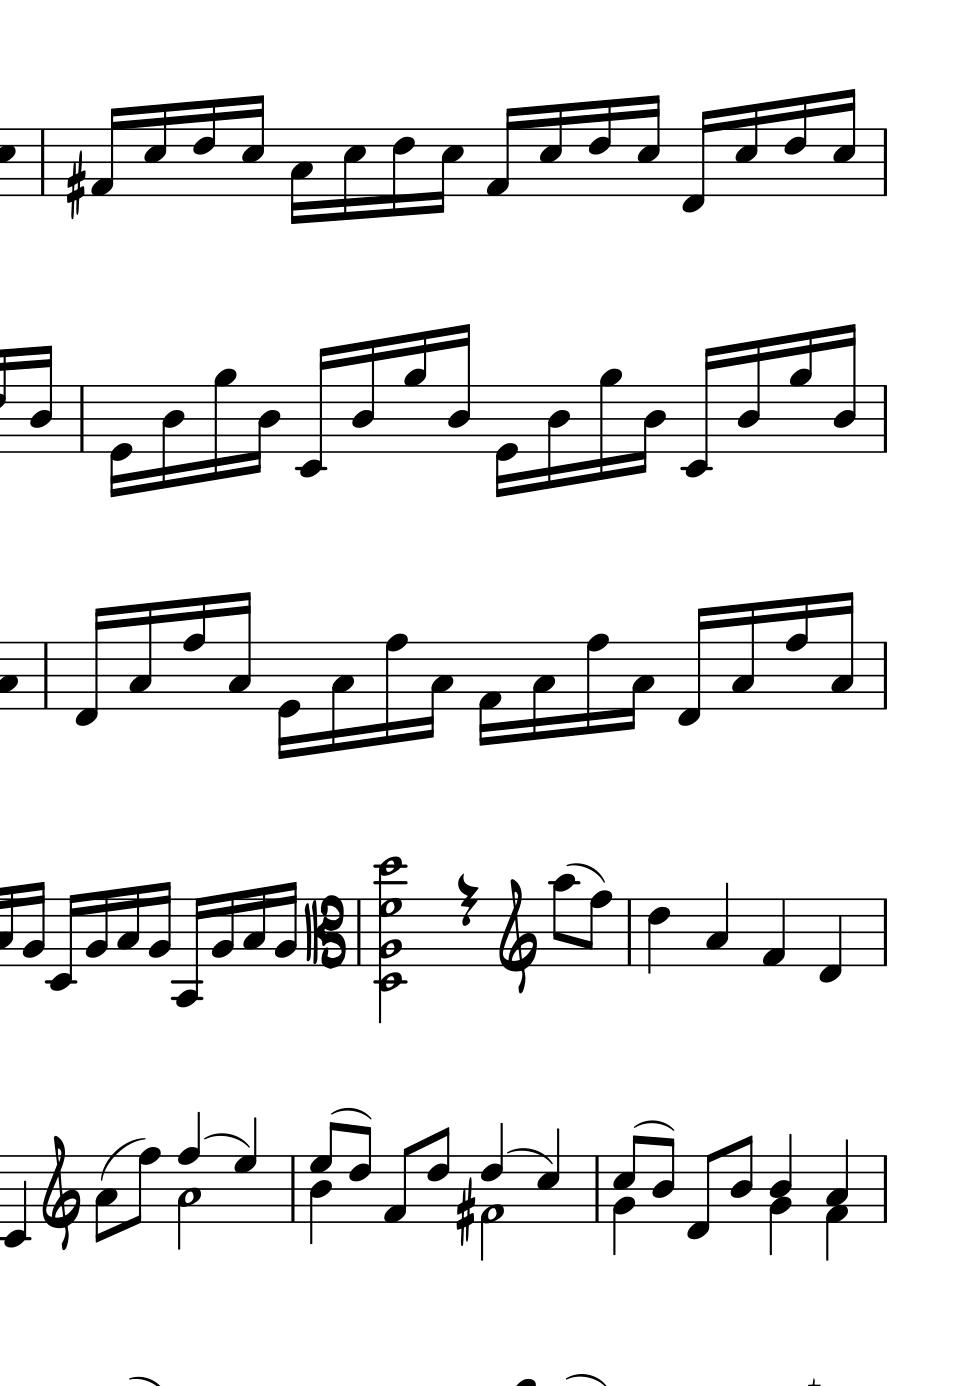16_-1: (673, 606, 710, 729), (680, 109, 715, 215)
16_-2: (681, 345, 719, 479), (296, 346, 334, 479), (46, 887, 78, 993)
16_-4: (171, 890, 208, 1012)
16_0: (276, 638, 301, 761)
16_1: (482, 106, 518, 199), (90, 106, 121, 199), (477, 639, 502, 748)
16_2: (493, 382, 520, 499), (108, 384, 134, 498), (272, 881, 298, 967), (146, 880, 172, 969), (83, 888, 109, 968), (21, 882, 46, 969), (209, 891, 235, 968)
16_3: (226, 591, 253, 712), (421, 641, 454, 741), (729, 600, 757, 712), (328, 641, 355, 754), (829, 591, 855, 713), (622, 639, 654, 731), (127, 601, 153, 712), (529, 641, 555, 743), (288, 127, 314, 227), (115, 885, 141, 968), (241, 885, 267, 967)
16_4: (445, 322, 473, 455), (832, 322, 858, 456), (349, 338, 377, 455), (735, 337, 763, 454), (157, 383, 185, 492), (543, 383, 571, 492), (634, 383, 666, 477), (248, 383, 280, 476), (29, 344, 55, 455)
16_5: (430, 126, 463, 216), (634, 93, 662, 199), (832, 87, 857, 199), (240, 92, 266, 198), (733, 100, 760, 198), (537, 101, 564, 198), (143, 101, 169, 197), (342, 126, 366, 222)
16_6: (782, 94, 810, 199), (191, 97, 218, 198), (587, 97, 614, 198), (389, 126, 415, 218)
16_8: (783, 595, 811, 713), (381, 632, 408, 748), (180, 595, 207, 712), (582, 632, 608, 738)
16_9: (402, 328, 428, 454), (787, 329, 813, 454), (210, 366, 237, 484), (596, 366, 622, 484)
2_4th: (372, 857, 409, 1021)
4_-1: (816, 896, 843, 986)
4_-2: (1, 1153, 29, 1251)
4_1: (760, 896, 787, 969)
4_1_3: (822, 1136, 851, 1262)
4_2_4: (767, 1135, 795, 1256)
4_3: (704, 881, 731, 968)
4_5: (533, 1125, 561, 1224)
4_6: (645, 897, 671, 975)
4_7: (232, 1113, 259, 1224)
8_-1: (71, 608, 107, 729), (683, 1147, 720, 1242)
8_1: (382, 1139, 419, 1224)
8_10: (550, 872, 575, 968)
8_3: (93, 1153, 119, 1244)
8_4: (727, 1133, 755, 1225), (649, 1135, 675, 1226)
8_6: (346, 1123, 372, 1226), (425, 1125, 451, 1226)
8_8: (128, 1145, 162, 1229), (582, 889, 613, 967)
Cclef: (302, 894, 347, 971)
Gclef: (498, 876, 537, 994), (42, 1135, 81, 1252)
Rests4: (453, 871, 480, 929)
Sharp: (453, 1174, 475, 1246), (63, 151, 85, 220)
Single_barline: (285, 1156, 302, 1221), (877, 642, 893, 710), (877, 385, 893, 453), (877, 129, 893, 196), (877, 899, 893, 966), (877, 1155, 893, 1222), (622, 899, 637, 965), (589, 1156, 605, 1221), (38, 642, 53, 709), (74, 386, 89, 452), (35, 130, 50, 195), (352, 900, 365, 966)
Slur: (98, 1136, 147, 1182), (506, 1146, 552, 1166), (566, 862, 606, 885), (203, 1131, 250, 1150), (634, 1117, 673, 1131), (332, 1105, 370, 1120)
